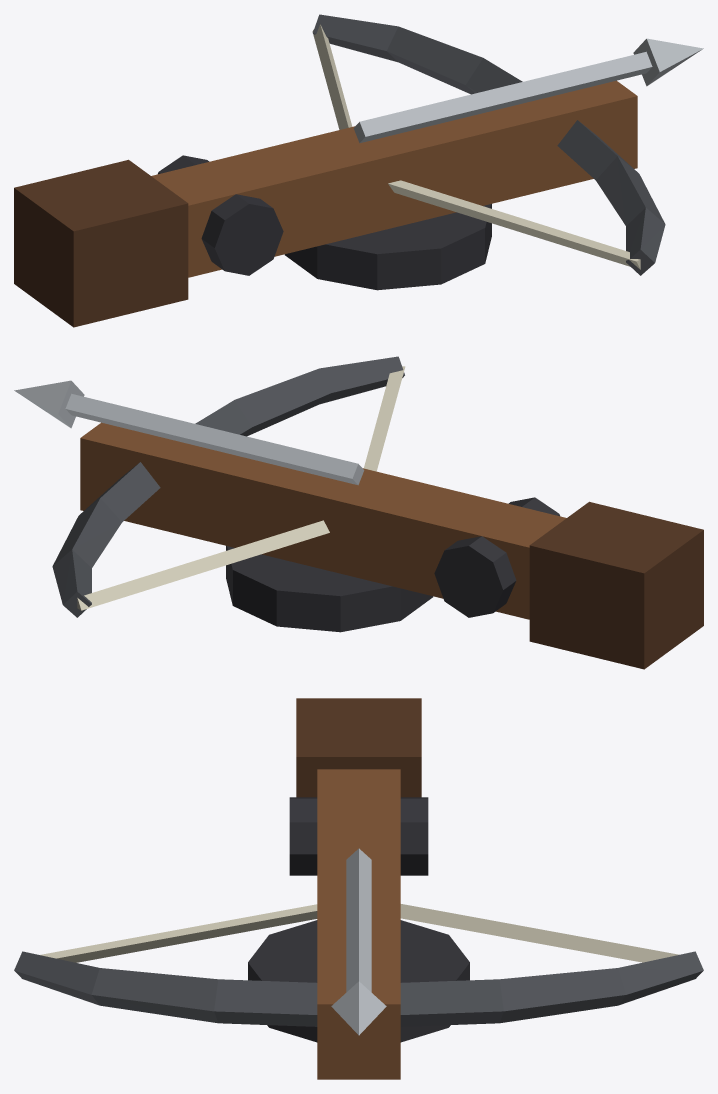
Rendered from vfem2_arbalest_turret_gun.obj.
The picture shows the model from 3 angles, top to bottom: view 1: azimuth 30°, elevation 25°; view 2: azimuth 150°, elevation 25°; view 3: azimuth 270°, elevation 25°; orthographic projection. The views are drawn at different scales.
Visible parts, largest first — view 1: vfem2_arbalest_turret_gun; view 2: vfem2_arbalest_turret_gun; view 3: vfem2_arbalest_turret_gun.
Boxes of the visible parts, box(x1,y1,x2,y2) form: vfem2_arbalest_turret_gun: box(14, 14, 703, 327); vfem2_arbalest_turret_gun: box(14, 356, 703, 669); vfem2_arbalest_turret_gun: box(14, 698, 703, 1079).
Size of the model in its own units: 1.15 by 0.24 by 0.9935.
